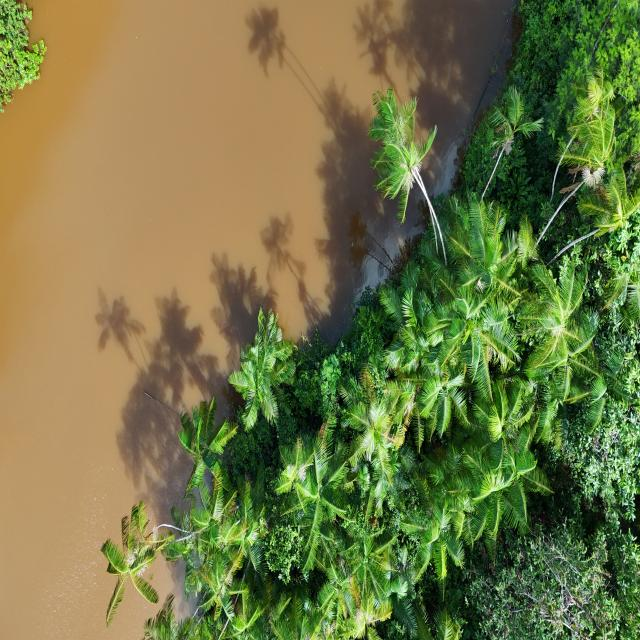vegetation: (99, 3, 638, 637)
